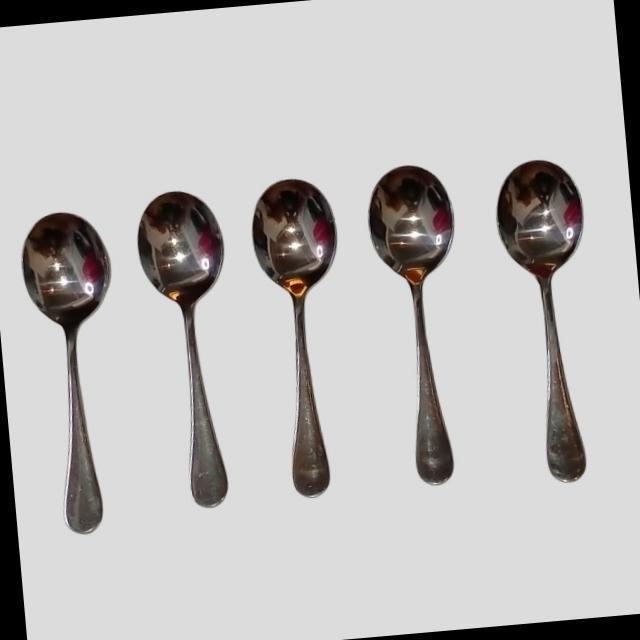spoon: (344, 131, 496, 513)
